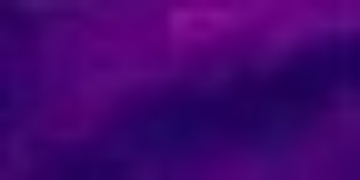Shadow: (191, 23, 360, 118), (98, 77, 193, 180), (1, 1, 86, 116), (28, 129, 99, 180)
